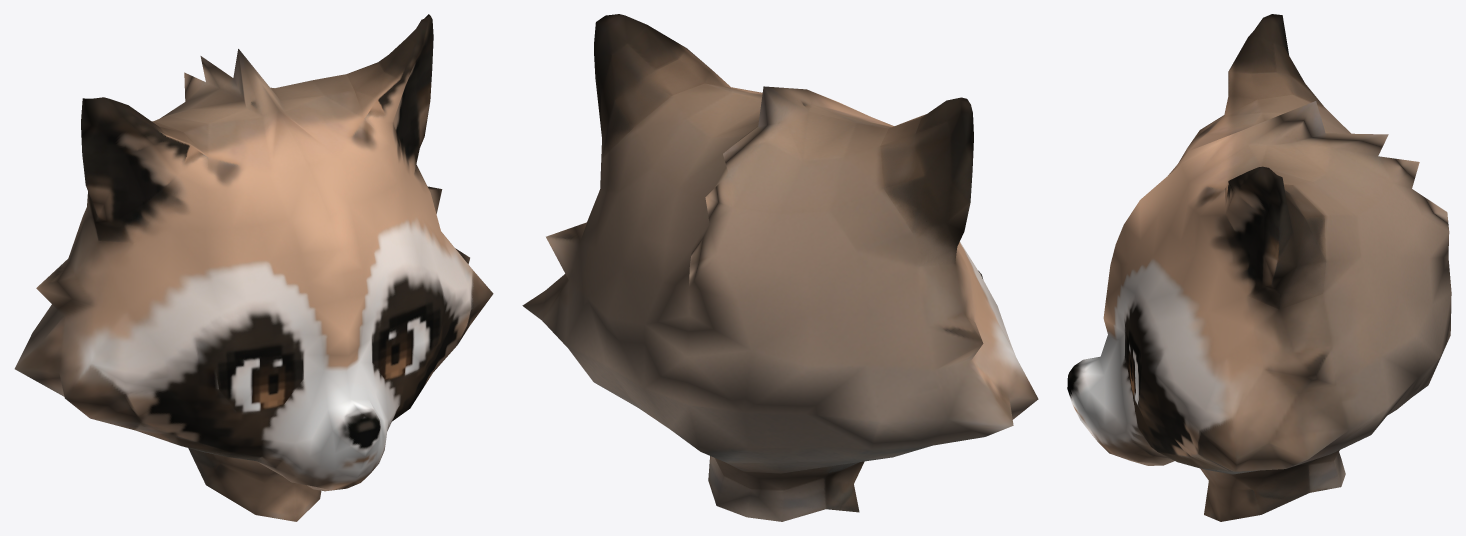
File: Meshy_AI_WuroCoon_HEAD_0818220305_texture.fbx
3 views of the same model, side by side, from view 1: azimuth 30°, elevation 25°; view 2: azimuth 150°, elevation 25°; view 3: azimuth 270°, elevation 25° (orthographic). The views are drawn at different scales.
Visible parts, largest first — view 1: mesh_node; view 2: mesh_node; view 3: mesh_node.
Part boxes in pixels (left/top/right/bottom): mesh_node: left=14, top=14, right=493, bottom=521; mesh_node: left=522, top=14, right=1038, bottom=521; mesh_node: left=1067, top=14, right=1451, bottom=521.
Size of the model in its own units: 200 by 184 by 152.
Materials: 1 (1 with a texture image).
